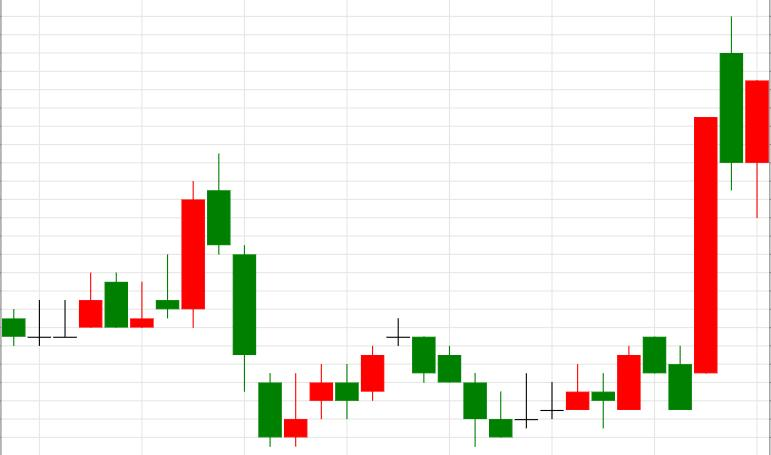three_black_crows_fall: (28, 153, 281, 448)
